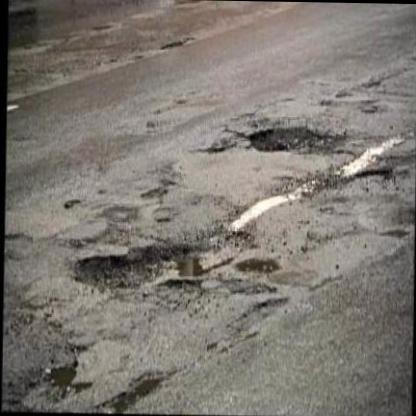pothole: (72, 220, 256, 296), (246, 123, 348, 158), (92, 367, 168, 413), (25, 358, 92, 408)
